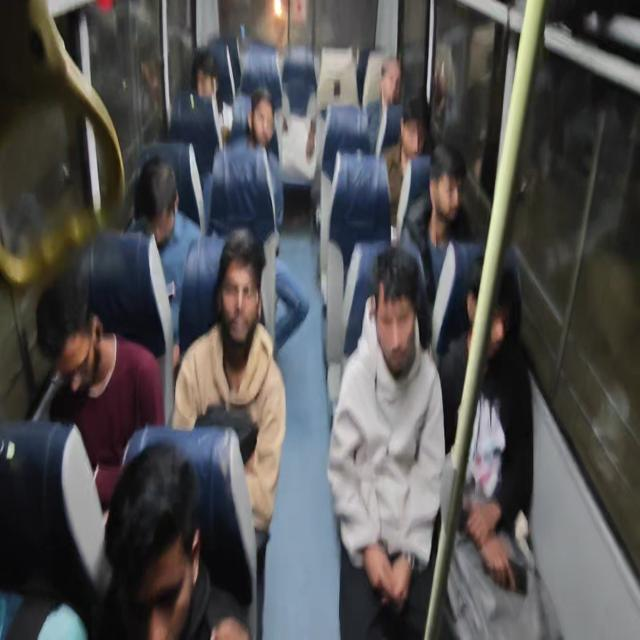person: (110, 436, 203, 640), (220, 232, 294, 418), (44, 254, 141, 394), (370, 250, 447, 412), (141, 144, 183, 276), (369, 56, 425, 141), (279, 94, 319, 197), (184, 65, 242, 135), (456, 294, 502, 378), (428, 135, 460, 216), (400, 102, 432, 156), (244, 82, 266, 130)
